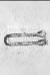V13: (5, 1, 46, 74)
